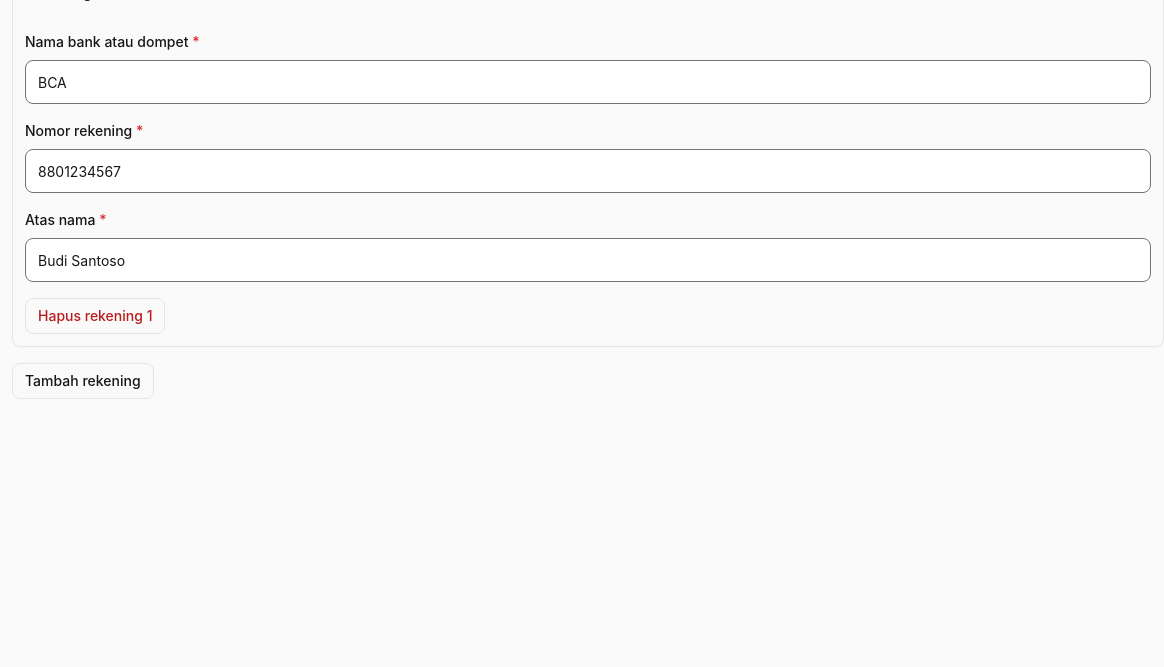
it: the panel edits collections row by row › adds a gift account in one POST with the API's field names, and lists it
Step 1. Click the button "Tambah rekening" → [83, 381], box [12,363,154,399]
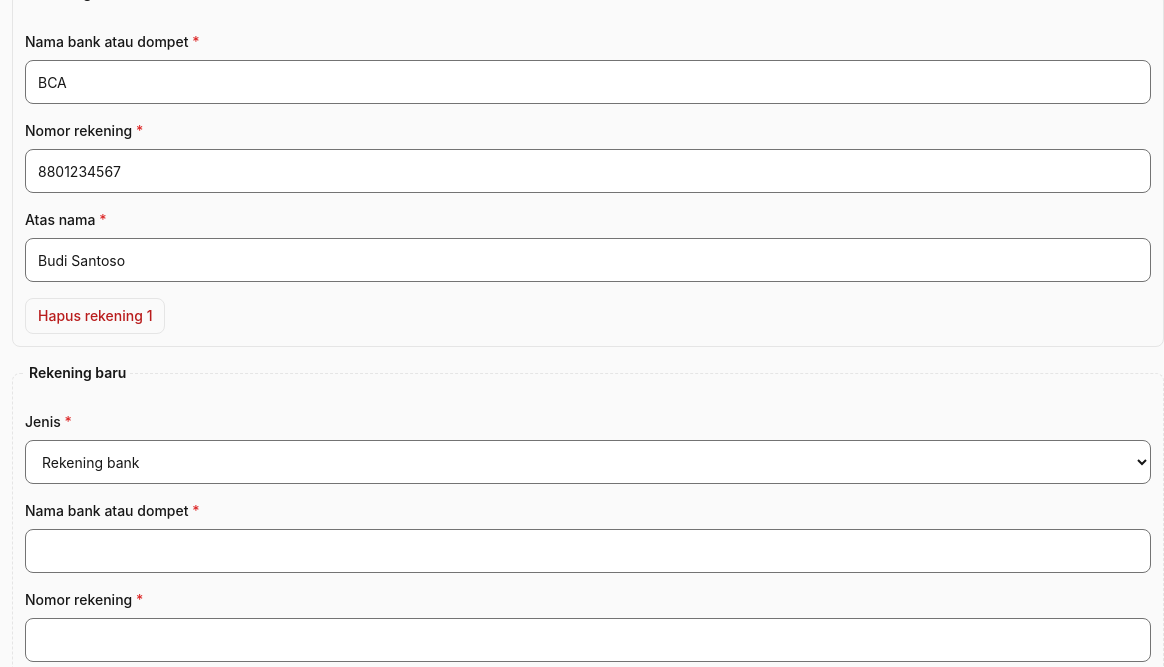
Step 2. Type "Mandiri" into the field labelled "Nama bank atau dompet *" below "Jenis" → [588, 551], box [25,529,1151,573]
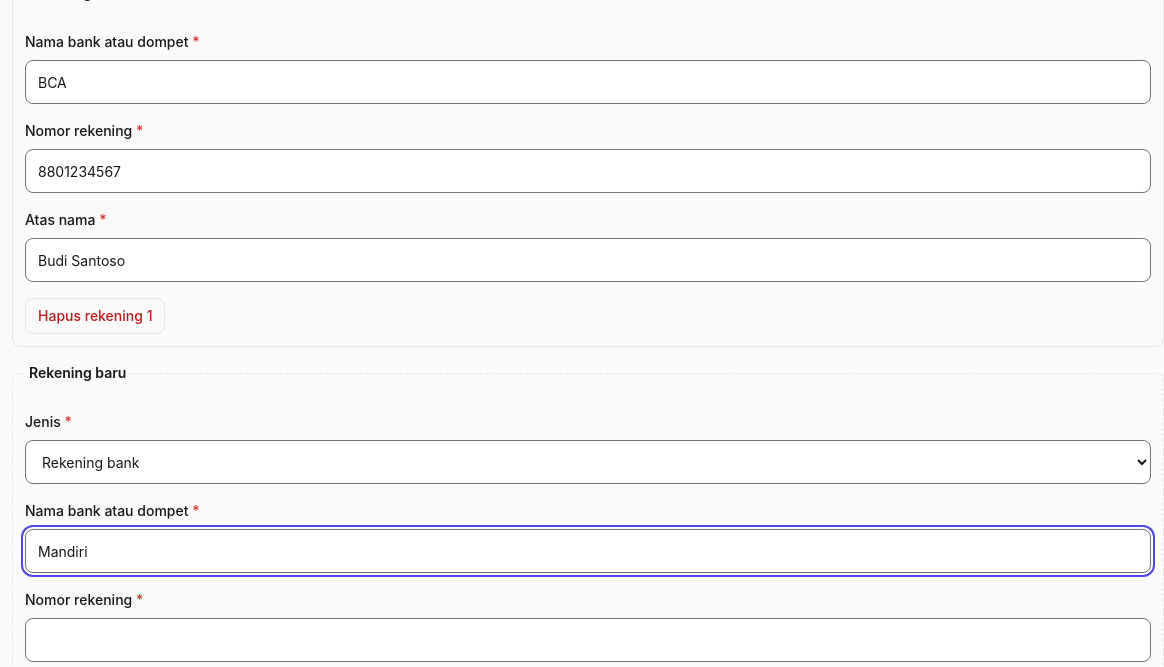
Step 3. Type "1234000" into the field labelled "Nomor rekening *" below "Jenis" → [588, 640], box [25,618,1151,662]
(page scrolled)
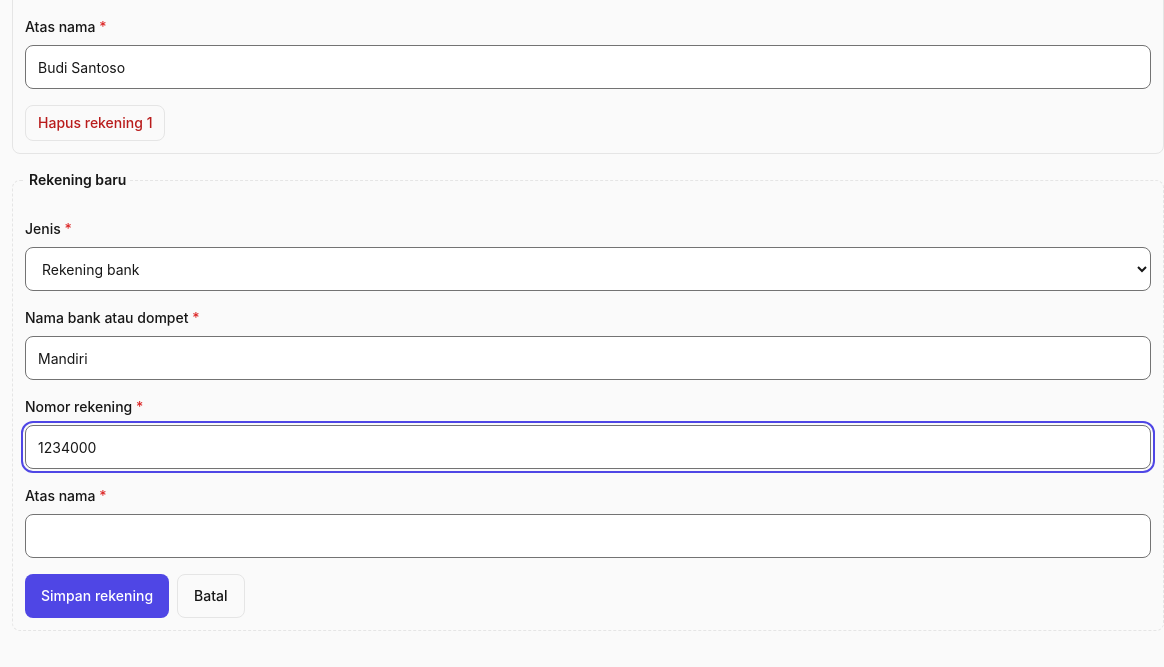
Step 4. Type "Siti Rahayu" into the field labelled "Atas nama *" below "Jenis" → [588, 536], box [25,514,1151,558]
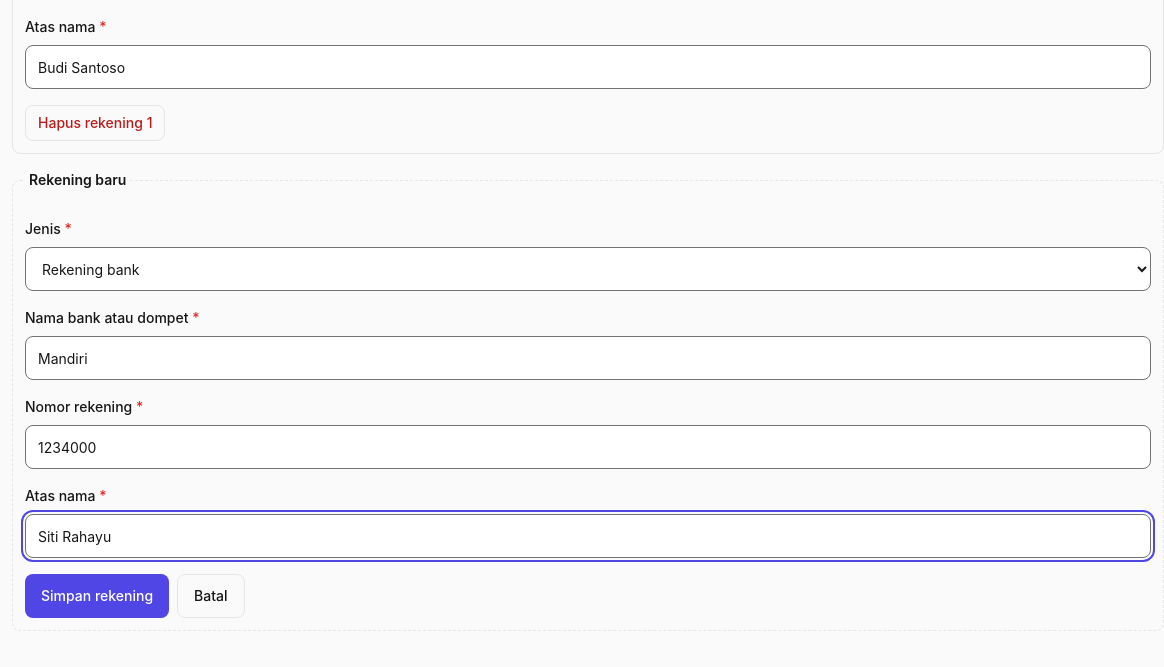
Step 5. Click the button "Simpan rekening" → [97, 596], box [25,574,169,618]
(page scrolled)
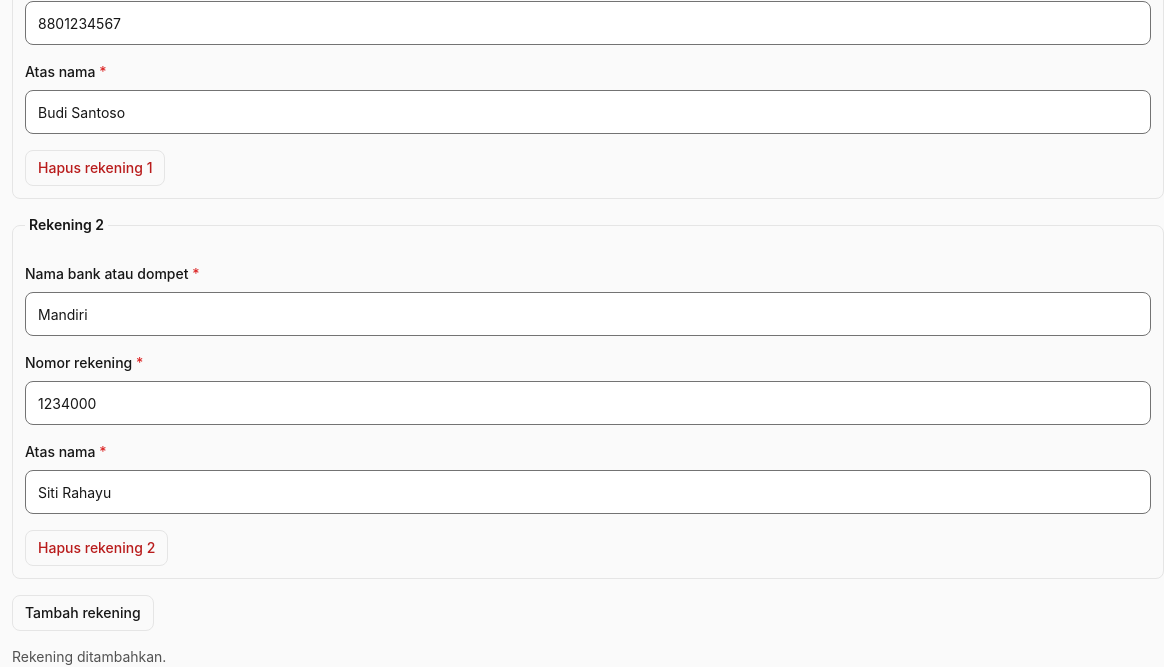
Now the element "Rekening 2" is shown, box [12,215,1163,579]
